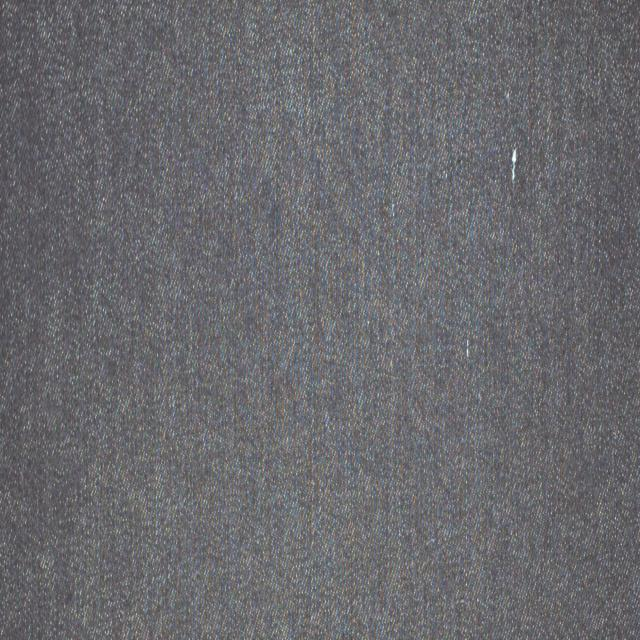Knot: (512, 147, 518, 188)
